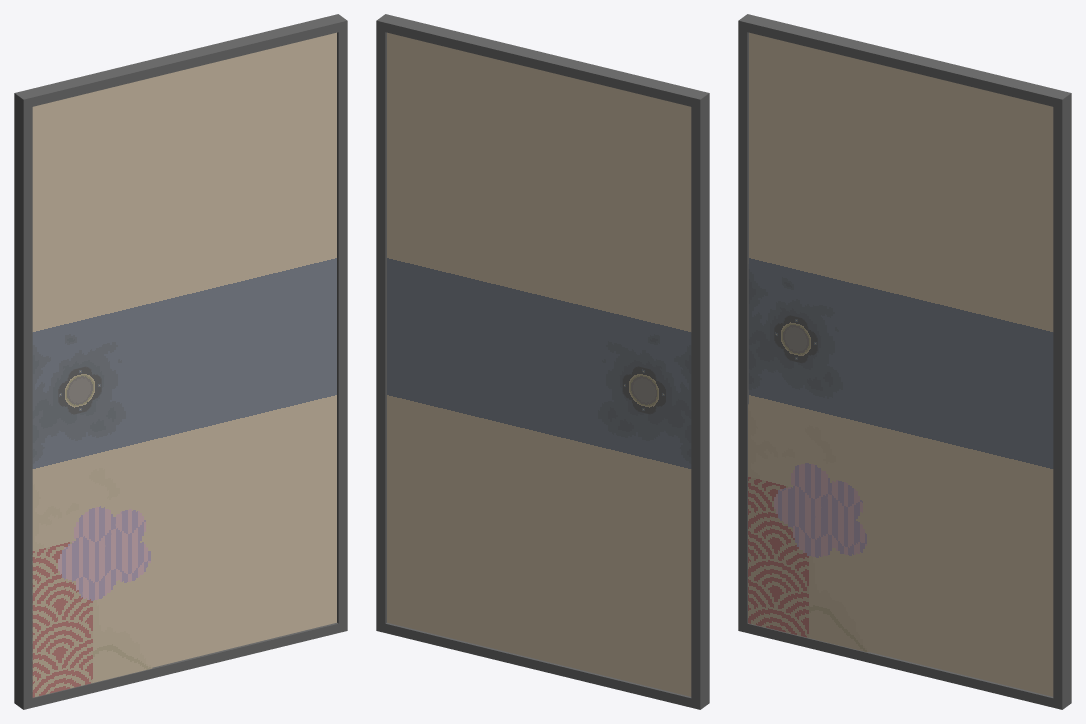
File: 04d5_Sliding_Door.glb
3 renders of one model, left to right at view 1: azimuth 30°, elevation 25°; view 2: azimuth 150°, elevation 25°; view 3: azimuth 330°, elevation 25°, orthographic.
Visible parts, largest first — view 1: part_0; view 2: part_0; view 3: part_0.
Boxes of the visible parts, x1,y1,x2,y2 form: part_0: (14, 14, 347, 709); part_0: (376, 14, 709, 709); part_0: (738, 14, 1071, 709).
Size of the model in its own units: 0.9 by 1.62 by 0.0437.
1 material, 1 textured.
